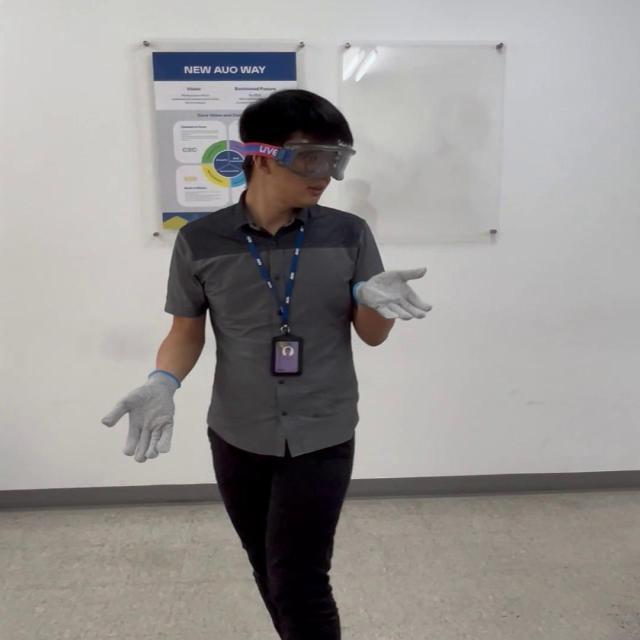gloved_hand: (107, 368, 191, 458), (363, 262, 425, 328)
